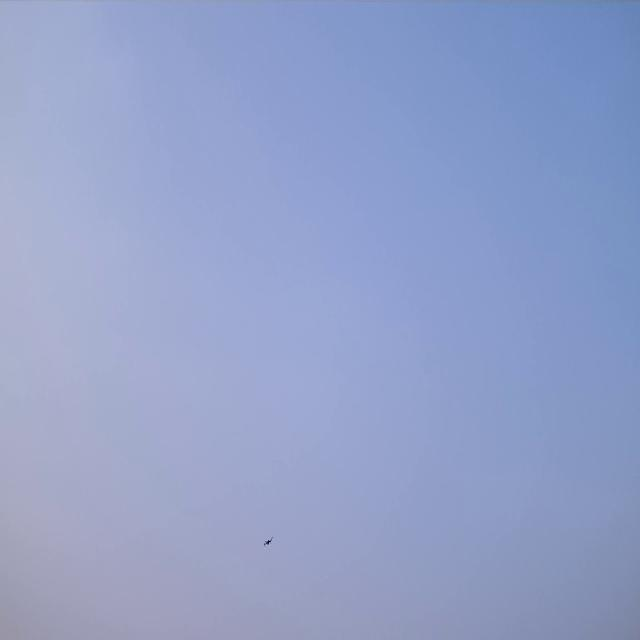UAV: (263, 536, 273, 548)
